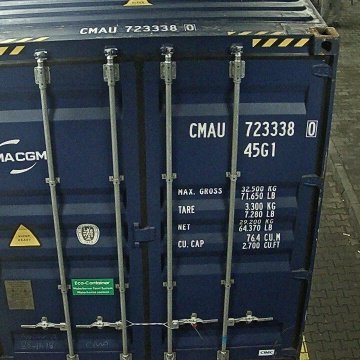serial_id: (189, 121, 315, 138)
